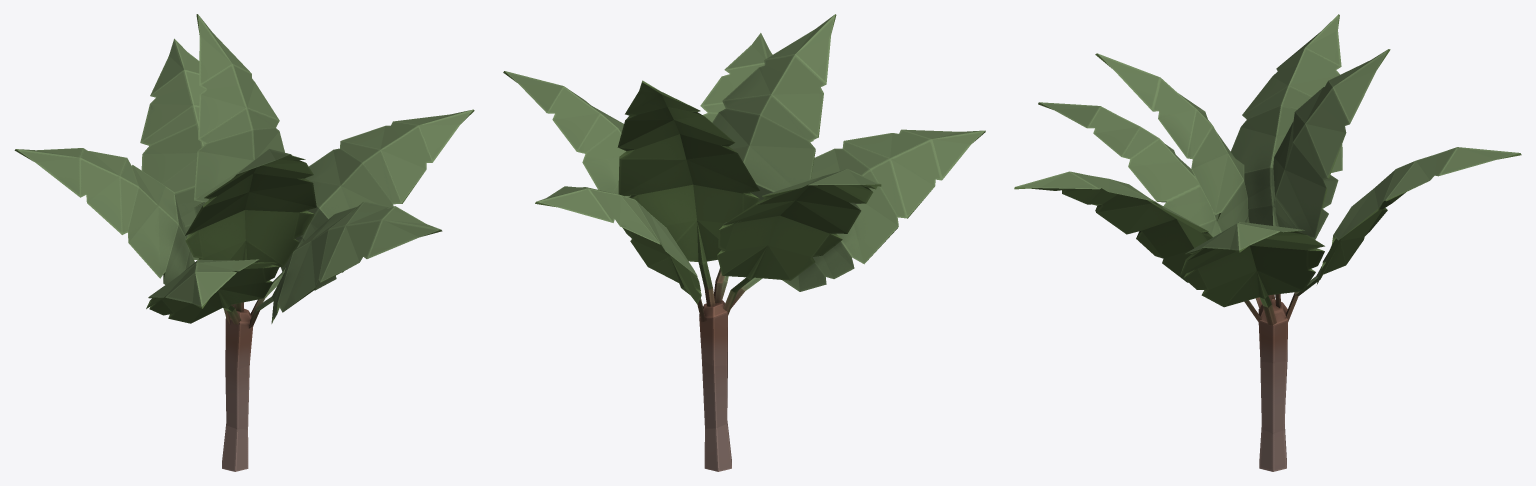
The model's file is d1ad5198-aca3-4feb-aca9-9b1b5cde10fd.glb.
3 views of the same model, side by side, from view 1: azimuth 30°, elevation 25°; view 2: azimuth 150°, elevation 25°; view 3: azimuth 270°, elevation 25° (orthographic). The views are drawn at different scales.
Visible parts, largest first — view 1: FishtailPalmTree_mesh; view 2: FishtailPalmTree_mesh; view 3: FishtailPalmTree_mesh.
Part boxes in pixels (x1,y1,x2,y2): FishtailPalmTree_mesh: [14, 14, 474, 471]; FishtailPalmTree_mesh: [503, 14, 985, 471]; FishtailPalmTree_mesh: [1014, 14, 1521, 471].
Bounding box in the file's own units: 8.22 × 7.75 × 8.37.
Materials: 1 (1 with a texture image).
